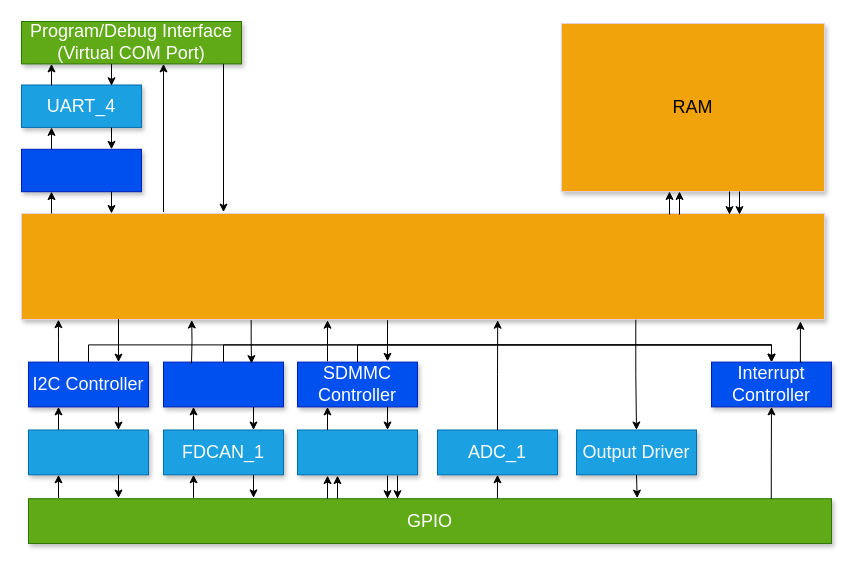
Image size: 855x568. Some labels were removed from this diagram. Each missing label, with the centre of its shape:
CPU: the point at 423,267
FDCAN Controller: the point at 224,385
I2C_1: the point at 89,453
SDMMC_1: the point at 358,453
UART Controller: the point at 82,171
